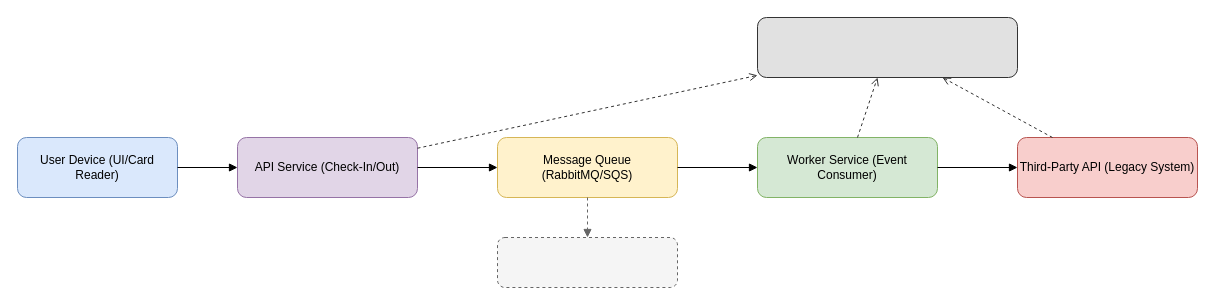
The diagram is 1215 pixels wide and 305 high, and some of its shapes have lost their labels. The box of each missing label's shape, as (x1, y1, x2, y2) in pixels:
Dead Letter Queue (DLQ): (496, 236, 678, 288)
Monitoring & Tracing\n(Prometheus, OpenTelemetry, Grafana): (756, 16, 1018, 78)
